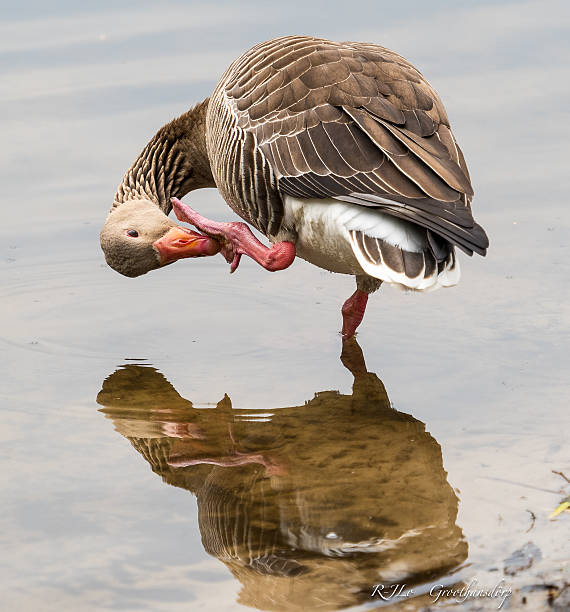goose: (92, 34, 487, 382)
